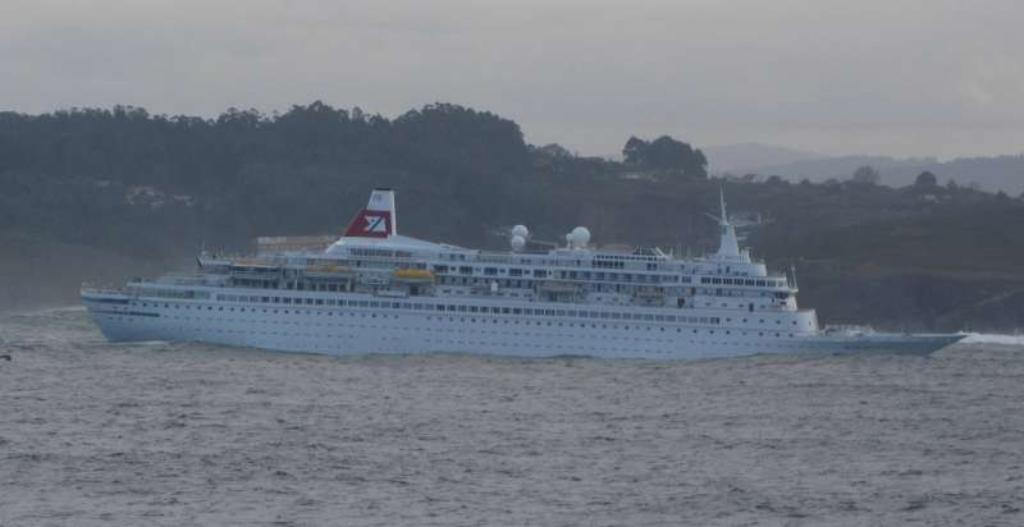PassengerShip: (76, 174, 970, 366)
